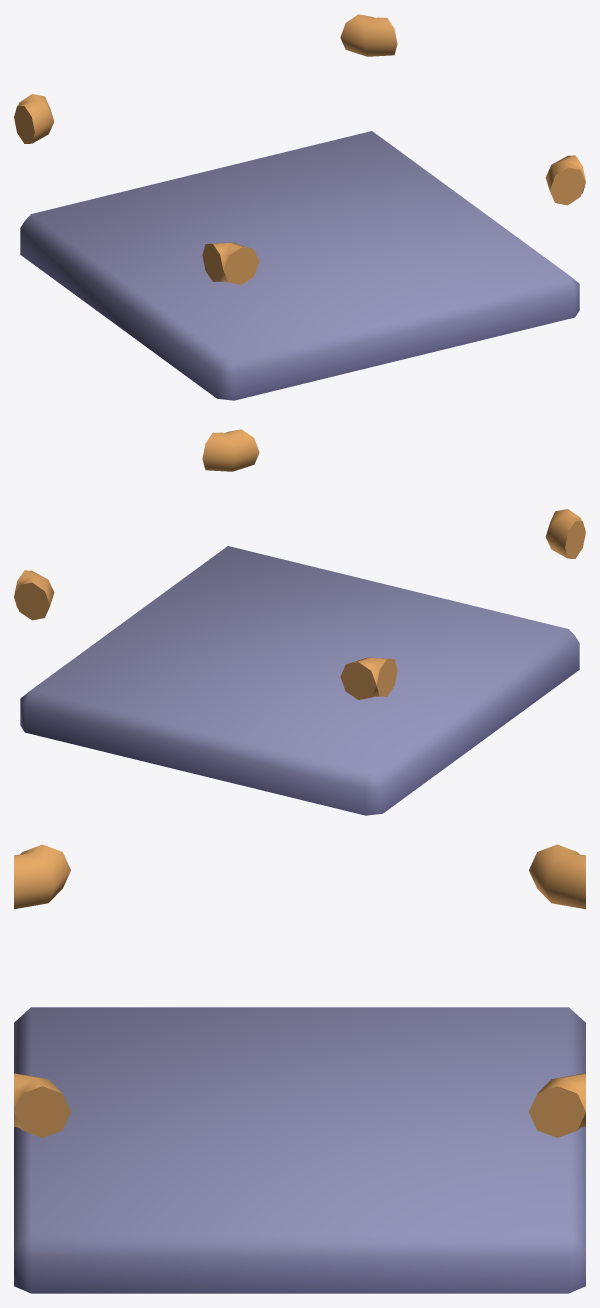
Rendered from kenney-factory-catwalk-cross.glb.
The picture shows the model from 3 angles, top to bottom: view 1: azimuth 30°, elevation 25°; view 2: azimuth 150°, elevation 25°; view 3: azimuth 270°, elevation 25°; orthographic projection. The views are drawn at different scales.
Visible parts, largest first — view 1: catwalk-cross; view 2: catwalk-cross; view 3: catwalk-cross.
Part boxes in pixels (left/top/right/bottom): catwalk-cross: left=14, top=14, right=585, bottom=400; catwalk-cross: left=14, top=429, right=585, bottom=815; catwalk-cross: left=14, top=844, right=585, bottom=1293.
Size of the model in its own units: 1 by 0.3999 by 1.
Materials: 1 (1 with a texture image).
